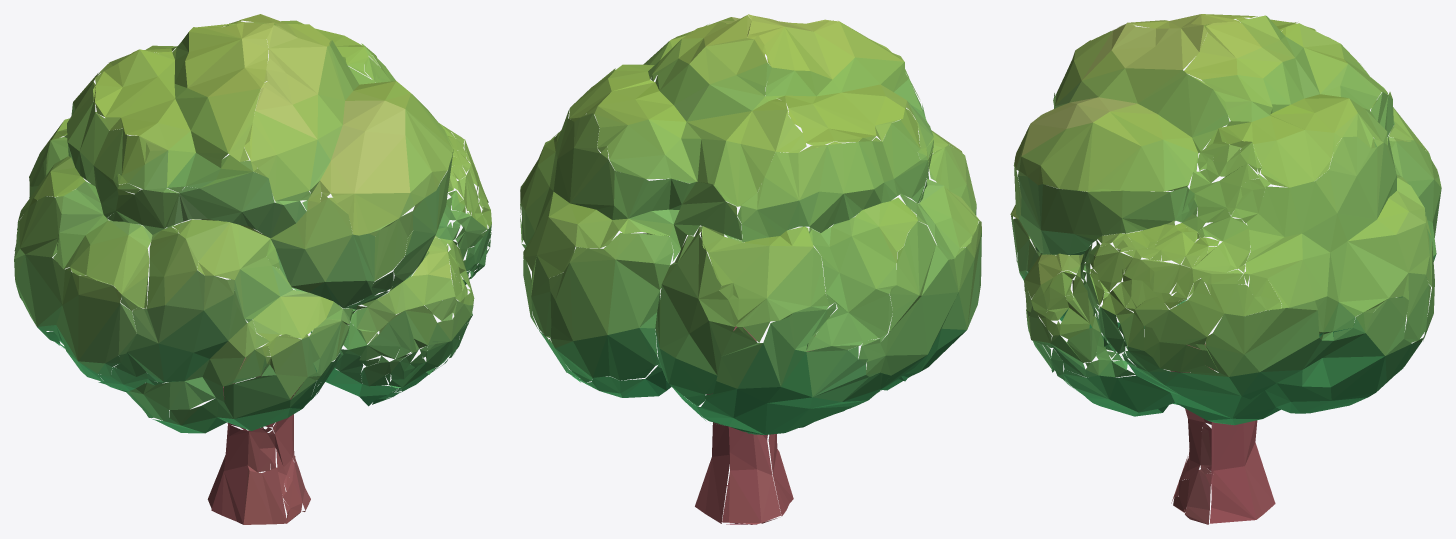
Rendered from tree-round.glb.
The picture shows the model from 3 angles, left to right: view 1: azimuth 30°, elevation 25°; view 2: azimuth 150°, elevation 25°; view 3: azimuth 270°, elevation 25°; orthographic projection.
Parts seen in each view (by area): view 1: source; view 2: source; view 3: source.
Part boxes in pixels (x1=…): source: x1=14, y1=14, x2=491, y2=524; source: x1=520, y1=14, x2=981, y2=524; source: x1=1010, y1=14, x2=1441, y2=524.
Size of the model in its own units: 1.77 by 2 by 1.62.
